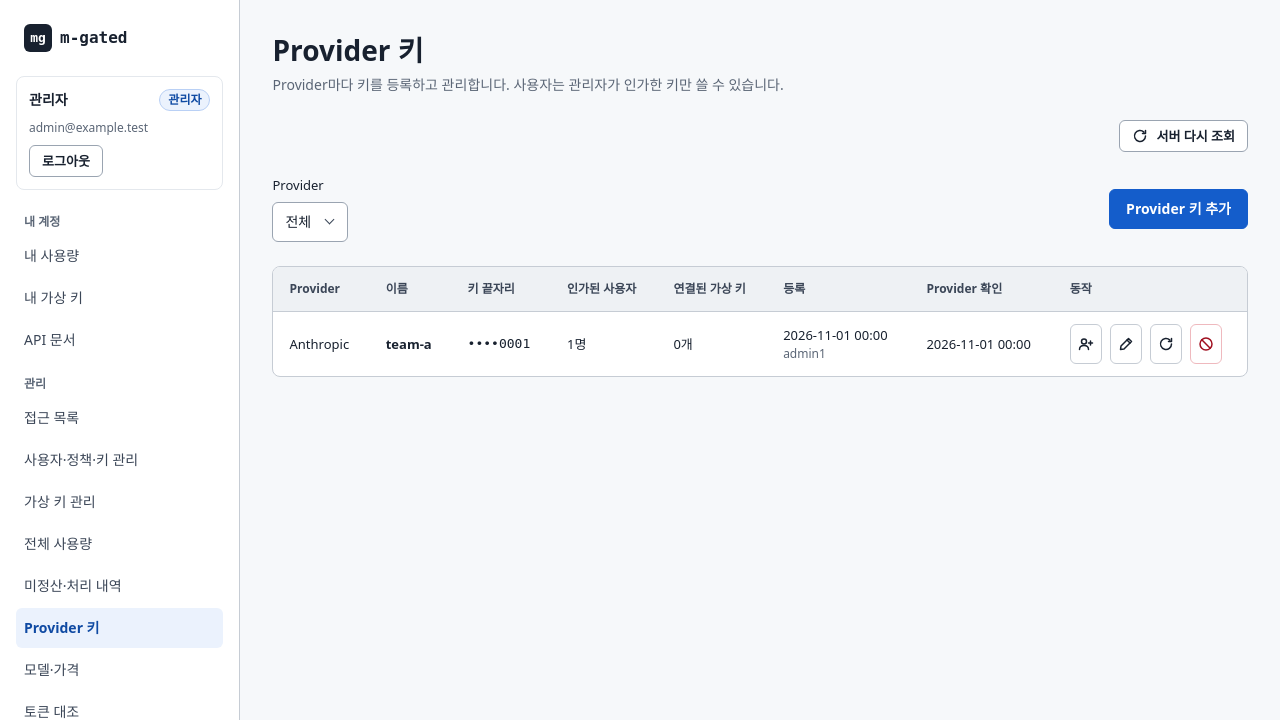
Test: failed_grant_keeps_the_window_open_and_is_not_sent_again
Click the button named "team-a 사용자 인가". click: (1086,344)
box: [1070,324,1102,364]
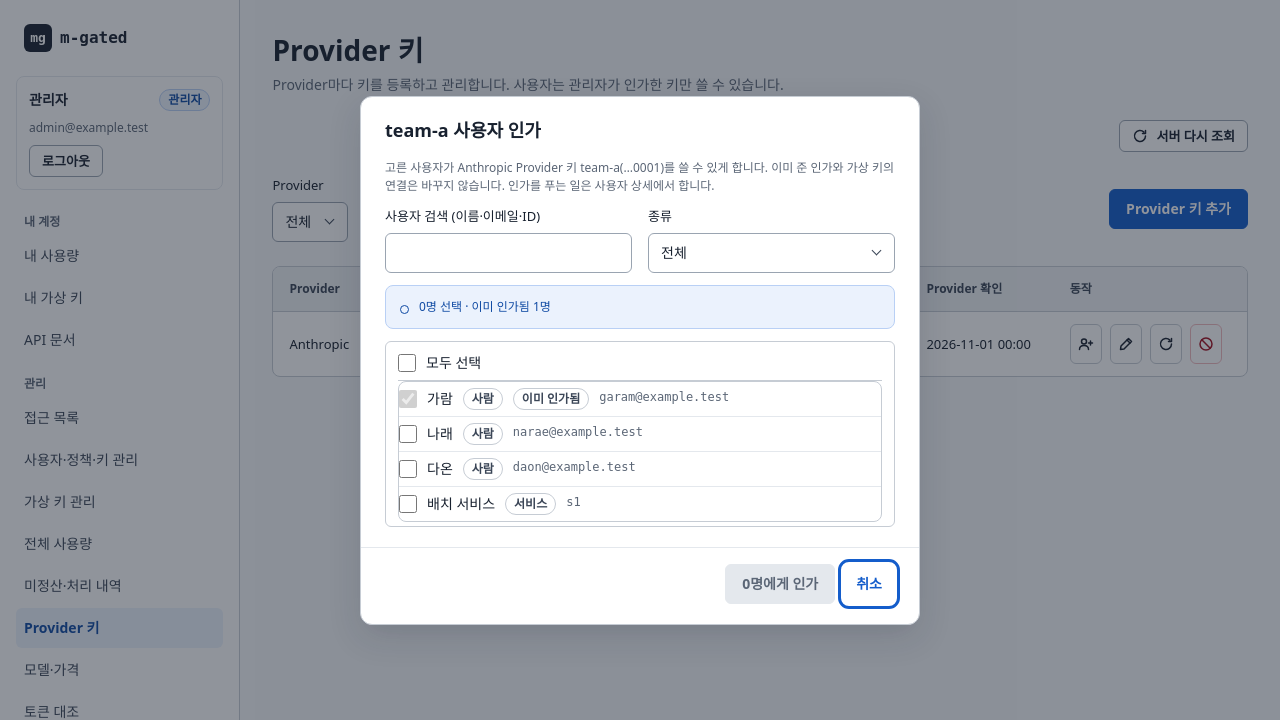
Check: the list named "인가할 사용자" is shown, box [398,380,882,522]
Click the checkbox labelled "나래 사람 narae@example.test". click: (408,434)
box: [399,424,417,442]
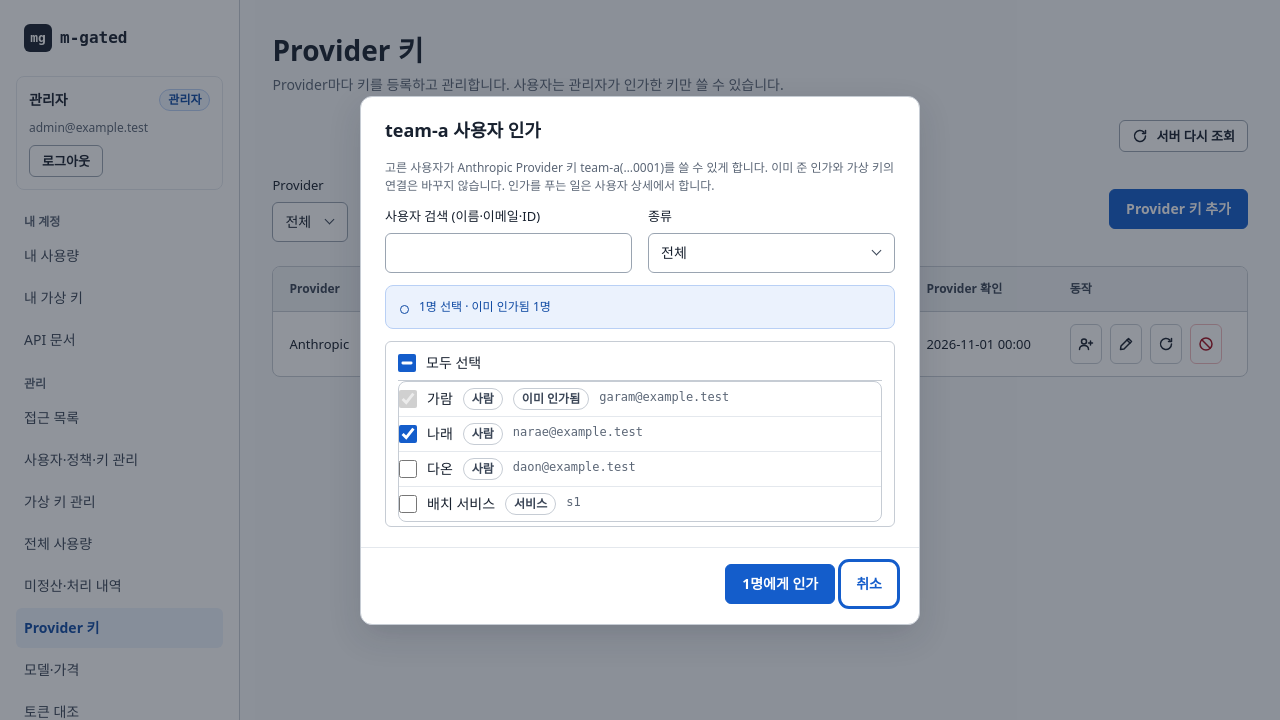
Click the button "1명에게 인가". click: (780,584)
box: [725,564,835,604]
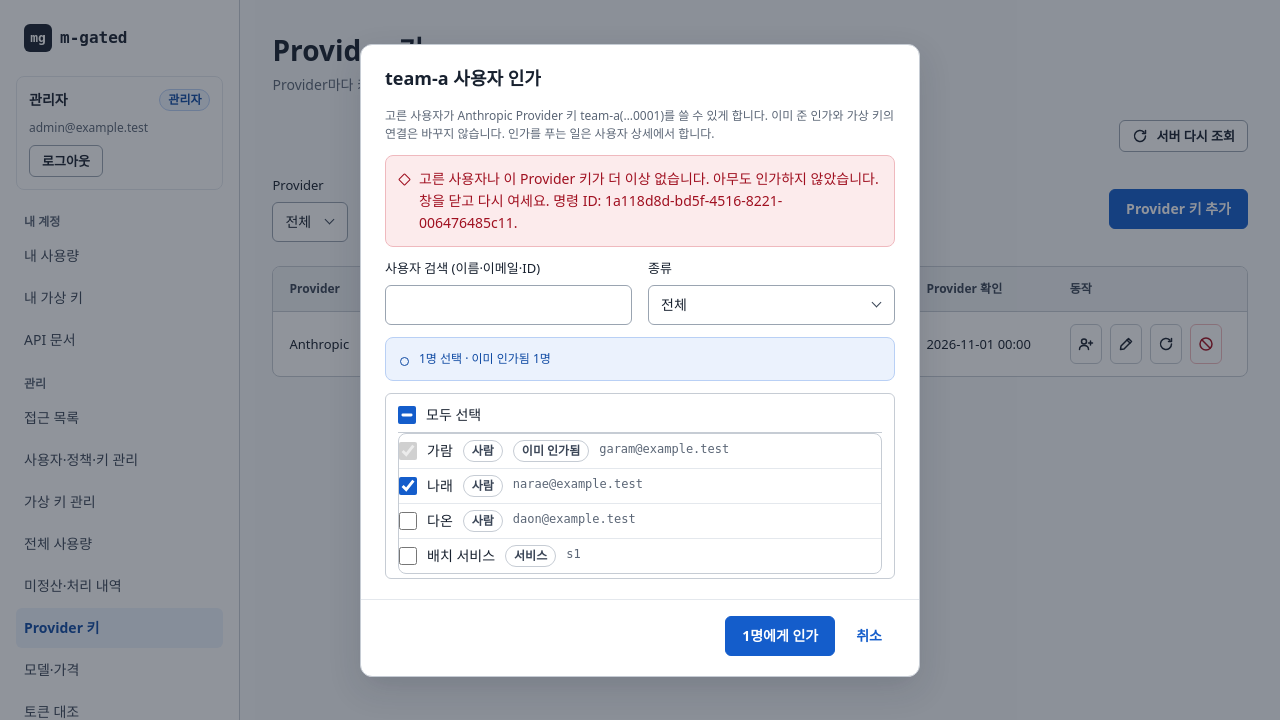
Check: the checkbox labelled "나래 사람 narae@example.test" is checked, box [399,476,417,494]
Check: the 1st message shows "아무도 인가하지 않았습니다.", box [419,168,879,232]
